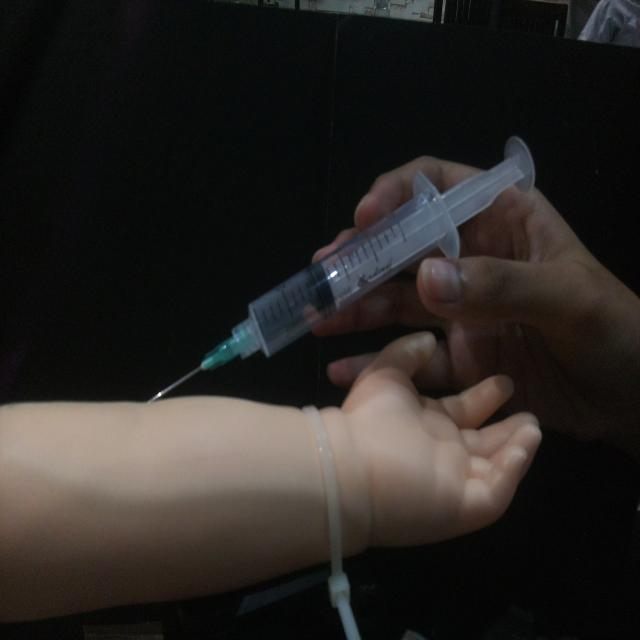20deg: (144, 130, 538, 404)
